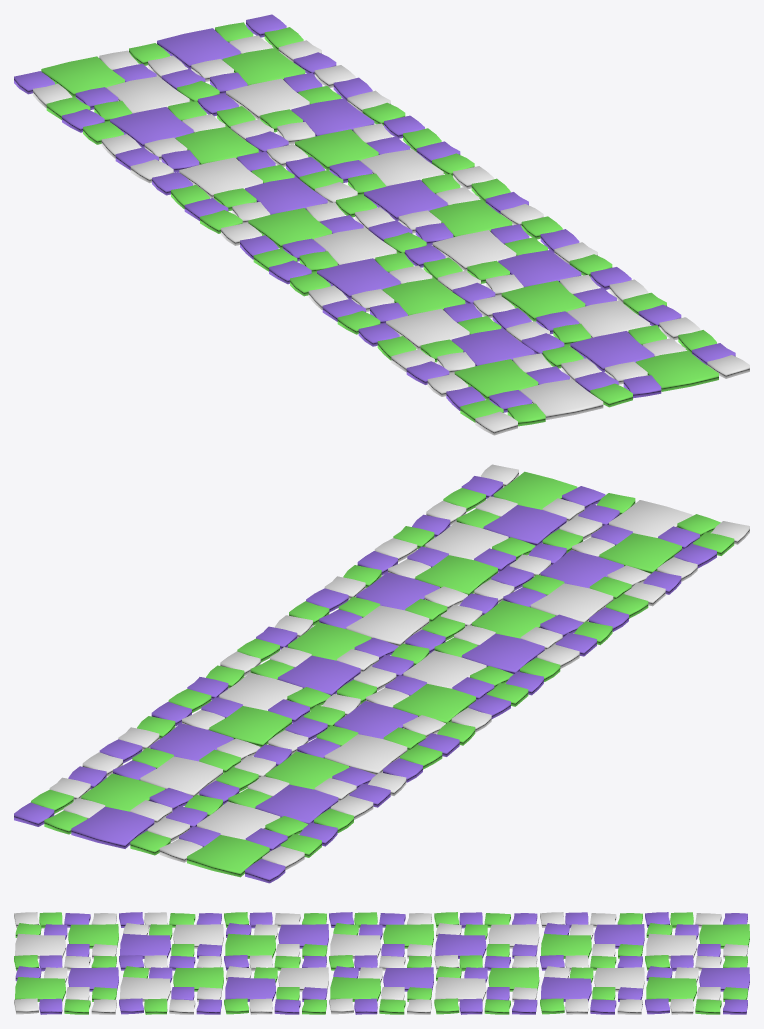
The model's file is stones_straight.glb.
The picture shows the model from 3 angles, top to bottom: view 1: azimuth 30°, elevation 25°; view 2: azimuth 150°, elevation 25°; view 3: azimuth 270°, elevation 25°; orthographic projection. The views are drawn at different scales.
Parts seen in each view (by area): view 1: Path; view 2: Path; view 3: Path.
Part boxes in pixels (bbox=[...]): Path: bbox=[14, 14, 749, 435]; Path: bbox=[14, 464, 749, 883]; Path: bbox=[14, 912, 749, 1014].
Size of the model in its own units: 6.2 by 0.1523 by 19.77.
